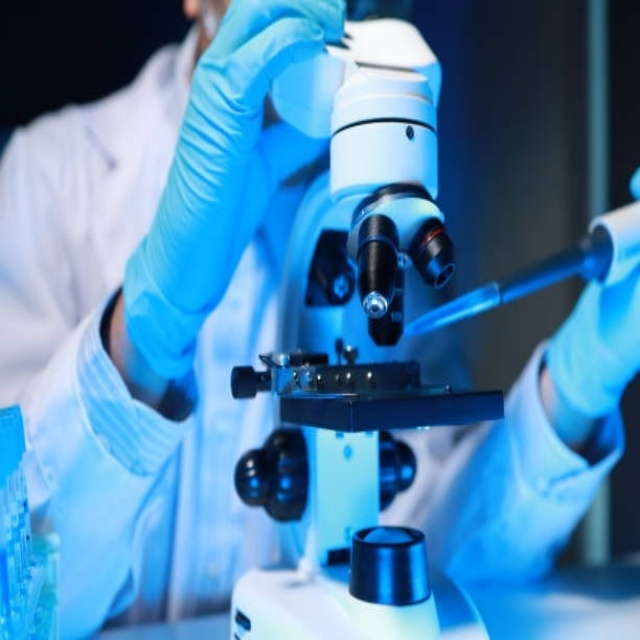Guantes: (119, 5, 352, 380)
